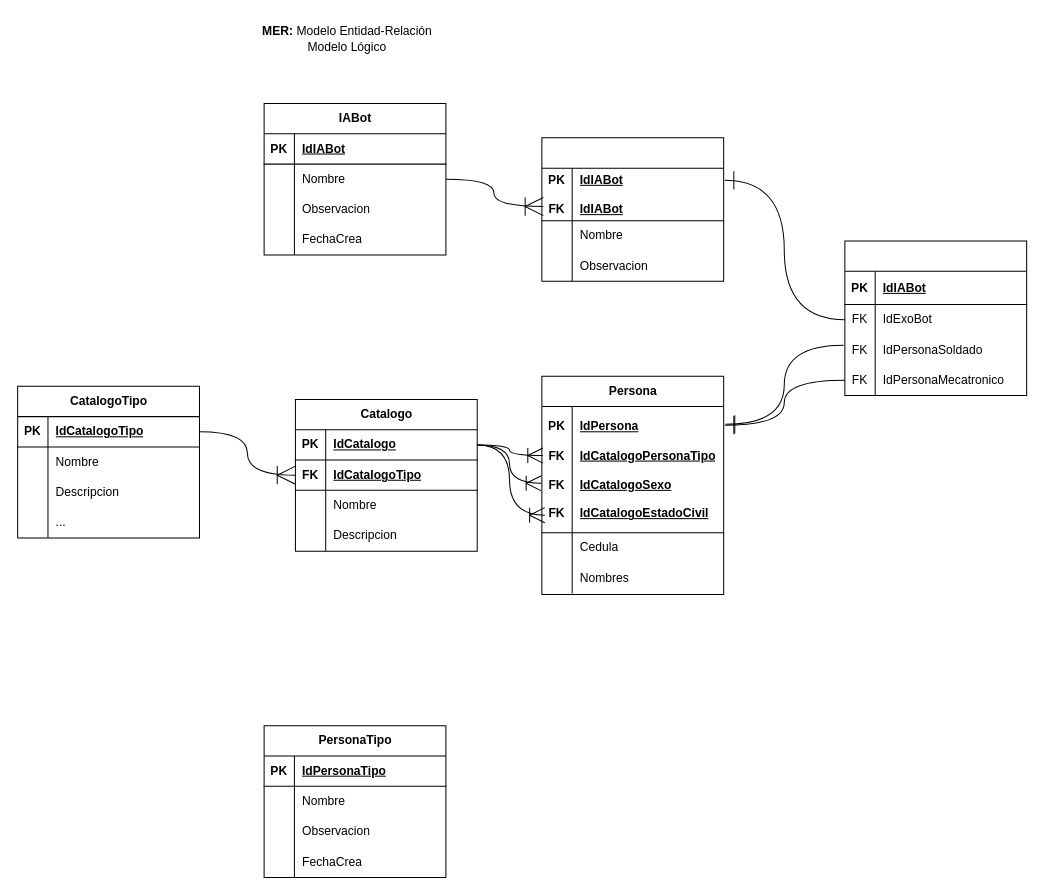
This 1044x895 diagram has some shape labels left out. The shapes that lost their labels are listed below. From the top down, each one's box as (x1, y1, x2, y2) in pixels, then its label:
(541, 137, 724, 281): ExoBot
(844, 240, 1027, 395): Ensamblado
